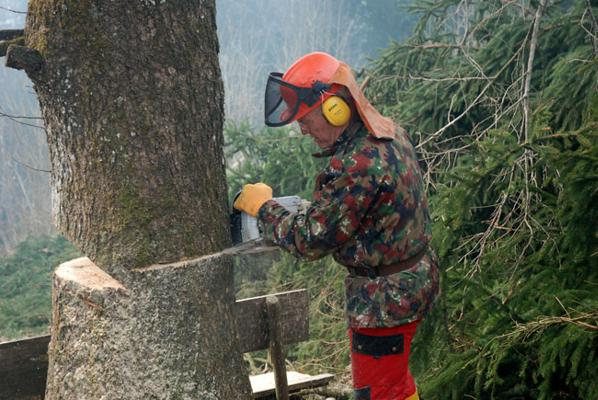person: (233, 52, 440, 400)
